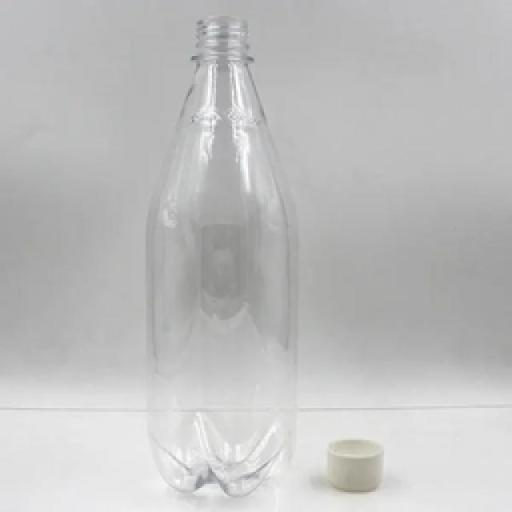plastic: (144, 14, 298, 496)
